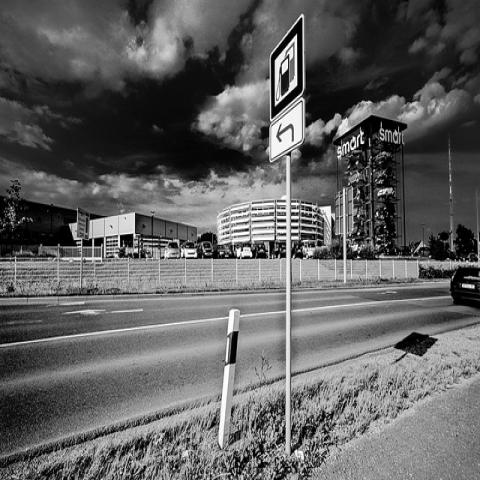car: (444, 260, 480, 306), (197, 241, 214, 260), (213, 243, 232, 259), (252, 241, 268, 260), (301, 239, 316, 259), (271, 241, 286, 259), (167, 240, 181, 258), (183, 242, 197, 258), (291, 244, 303, 259), (239, 246, 252, 259), (140, 248, 153, 258)
